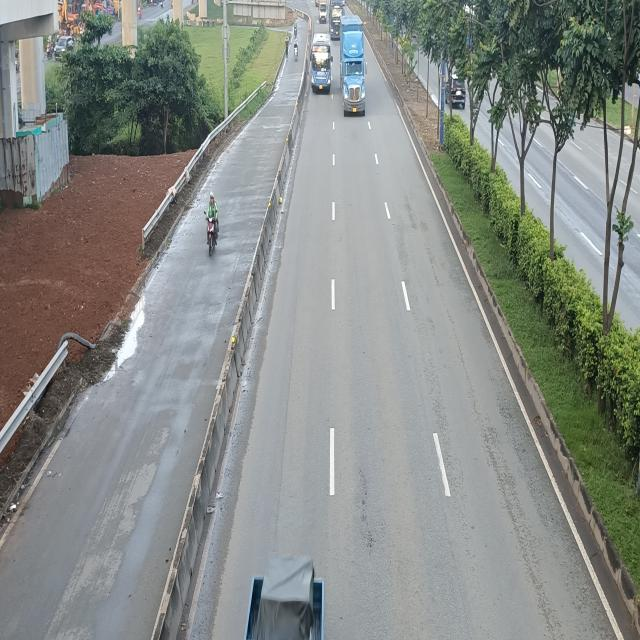coach: (309, 31, 332, 95)
container: (342, 15, 369, 116)
